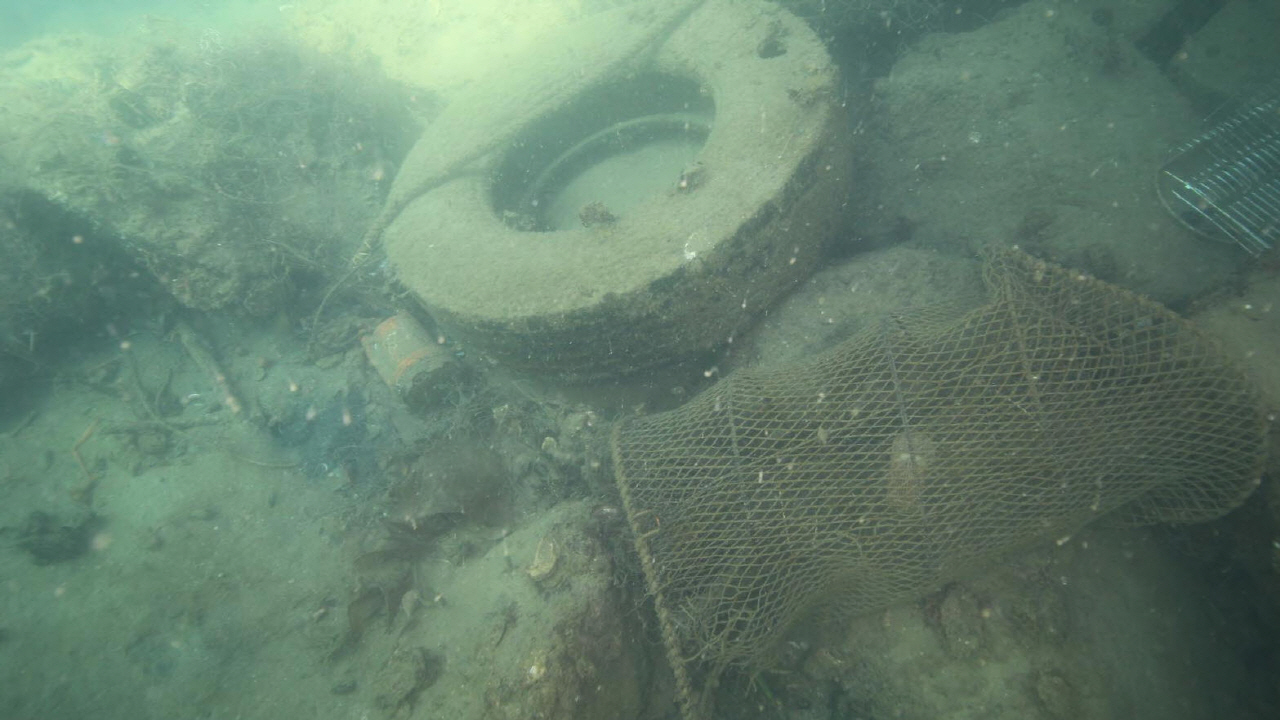rope: (342, 3, 709, 281)
spring fish trap: (609, 240, 1272, 720)
tire: (376, 1, 853, 385)
